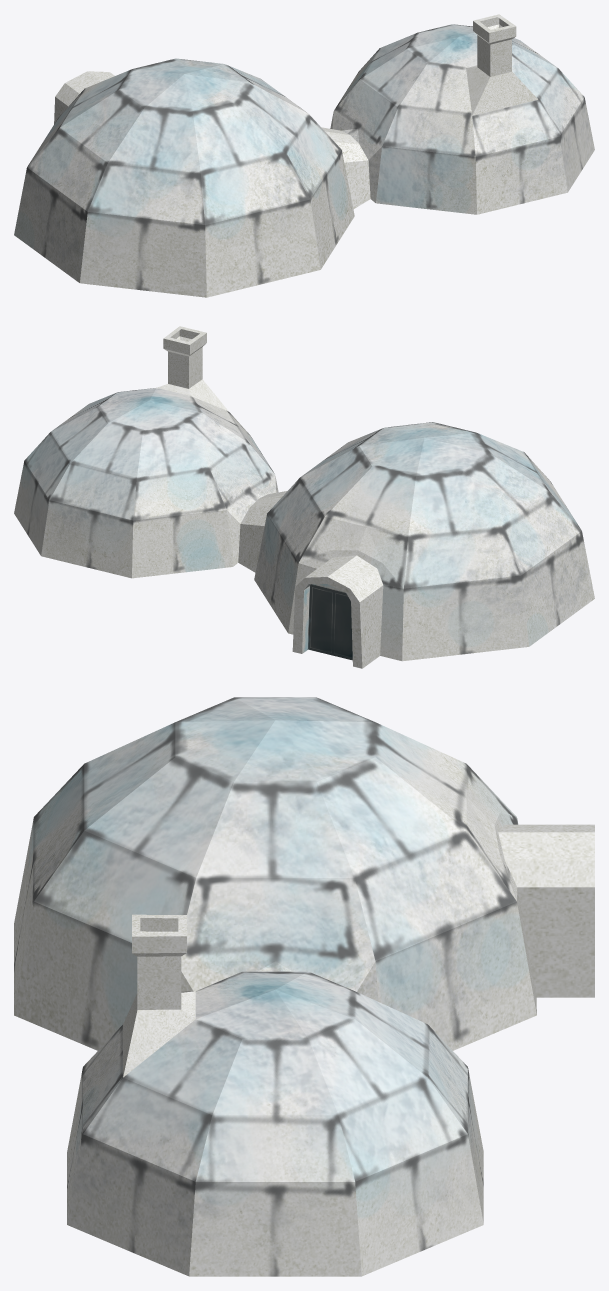
The model's file is Igroo3.fbx.
The picture shows the model from 3 angles, top to bottom: view 1: azimuth 30°, elevation 25°; view 2: azimuth 150°, elevation 25°; view 3: azimuth 270°, elevation 25°; orthographic projection. The views are drawn at different scales.
Visible parts, largest first — view 1: pPlane5; view 2: pPlane5; view 3: pPlane5.
Part boxes in pixels (box(x1,y1,x2,y2)): pPlane5: box(14, 14, 594, 297); pPlane5: box(14, 326, 594, 668); pPlane5: box(14, 697, 594, 1276).
Size of the model in its own units: 21.44 by 6.32 by 12.55.
